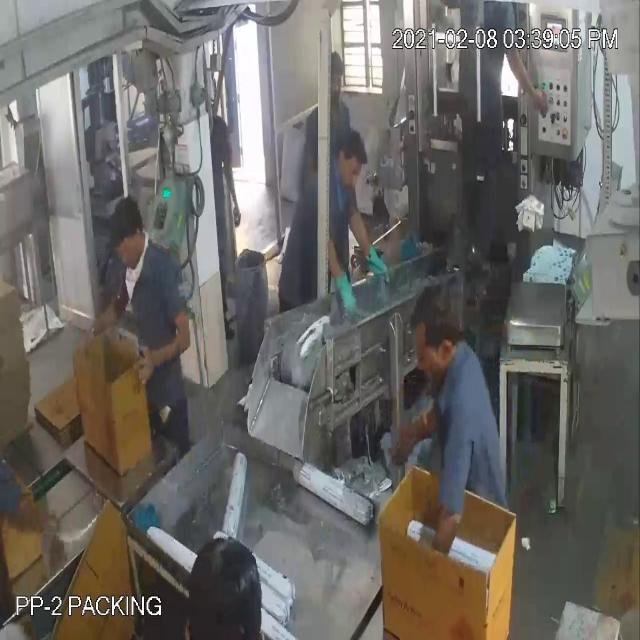No_Gloves: (34, 57, 414, 433)
